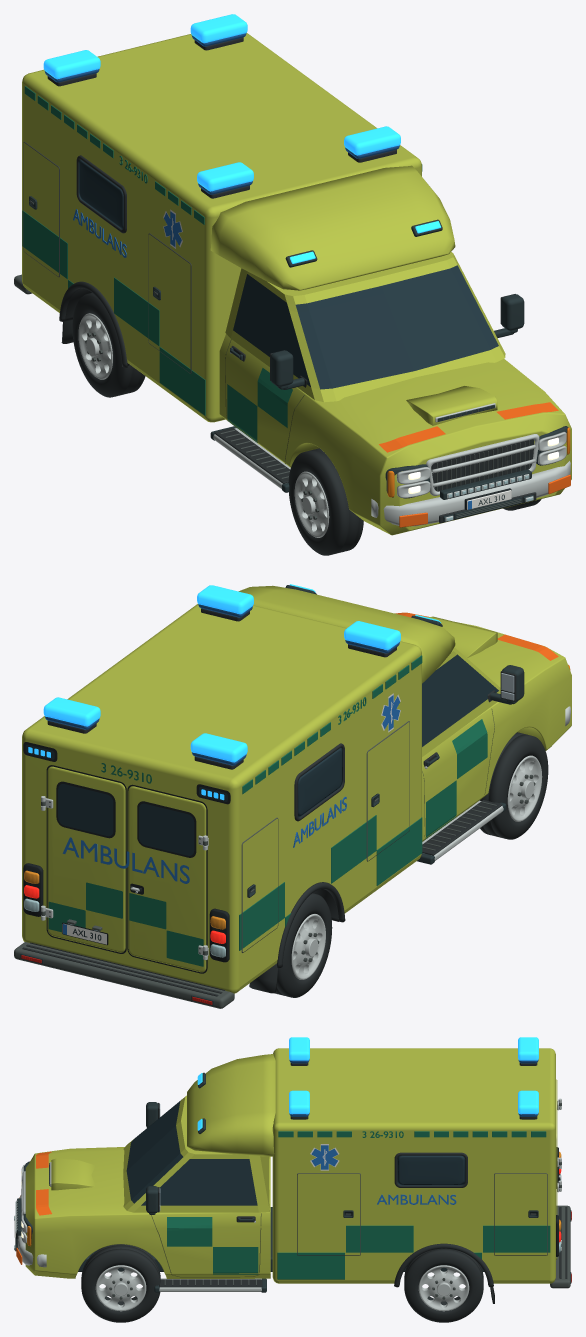
File: ambulance.glb
3 views of the same model, one above another, from view 1: azimuth 30°, elevation 25°; view 2: azimuth 150°, elevation 25°; view 3: azimuth 270°, elevation 25° (orthographic). The views are drawn at different scales.
Visible parts, largest first — view 1: Vårdmodul, Förarhytt, Huv och dörrplåt, Vårdmodulens taköverhäng, Däck, Pressad kromstötfångare, Däck.001, Motorhuvens luftintag, Kylarnätets skugga, Vårdfönstrets välvda glas, Reflexfält, Reflexfält.002 (+17 smaller); view 2: Vårdmodul, Huv och dörrplåt, Pressad dörrplåt, Pressad dörrplåt.001, Vårdmodulens taköverhäng, Förarhytt, Laststeg, Däck, Tonat bakglas.001, Tonat bakglas, Däck.001, Vårdfönstrets välvda glas (+25 smaller); view 3: Vårdmodul, Huv och dörrplåt, Förarhytt, Vårdmodulens taköverhäng, Däck.002, Däck.003, Vårdfönstrets välvda glas.001, Reflexfält.004, Reflexfält.006, Reflexfält.007, Aluminiumfälg.003, Aluminiumfälg.002 (+16 smaller).
Part boxes in pixels (left/top/right/bottom): Vårdmodul: left=22, top=33, right=421, bottom=422; Förarhytt: left=225, top=252, right=505, bottom=402; Huv och dörrplåt: left=219, top=334, right=571, bottom=535; Vårdmodulens taköverhäng: left=210, top=165, right=455, bottom=290; Däck: left=288, top=448, right=363, bottom=555; Pressad kromstötfångare: left=371, top=461, right=570, bottom=526; Däck.001: left=72, top=293, right=145, bottom=397; Motorhuvens luftintag: left=406, top=386, right=497, bottom=425; Kylarnätets skugga: left=431, top=439, right=533, bottom=491; Vårdfönstrets välvda glas: left=78, top=159, right=123, bottom=229; Reflexfält: left=159, top=347, right=205, bottom=415; Reflexfält.002: left=114, top=277, right=159, bottom=346; Vårdmodul: left=22, top=604, right=421, bottom=993; Huv och dörrplåt: left=394, top=612, right=571, bottom=841; Pressad dörrplåt: left=128, top=786, right=206, bottom=972; Pressad dörrplåt.001: left=47, top=766, right=125, bottom=952; Vårdmodulens taköverhäng: left=238, top=585, right=455, bottom=683; Förarhytt: left=422, top=647, right=500, bottom=756; Laststeg: left=14, top=942, right=234, bottom=1008; Däck: left=479, top=732, right=548, bottom=839; Tonat bakglas.001: left=58, top=784, right=113, bottom=836; Tonat bakglas: left=139, top=803, right=194, bottom=855; Däck.001: left=274, top=893, right=332, bottom=997; Vårdfönstrets välvda glas: left=298, top=747, right=342, bottom=817; Vårdmodul: left=272, top=1048, right=555, bottom=1283; Huv och dörrplåt: left=25, top=1147, right=270, bottom=1278; Förarhytt: left=123, top=1095, right=269, bottom=1212; Vårdmodulens taköverhäng: left=187, top=1054, right=275, bottom=1156; Däck.002: left=81, top=1244, right=160, bottom=1322; Däck.003: left=404, top=1248, right=483, bottom=1322; Vårdfönstrets välvda glas.001: left=397, top=1155, right=465, bottom=1185; Reflexfält.004: left=277, top=1252, right=344, bottom=1279; Reflexfält.006: left=346, top=1225, right=413, bottom=1252; Reflexfält.007: left=483, top=1225, right=550, bottom=1252; Aluminiumfälg.003: left=418, top=1265, right=469, bottom=1311; Aluminiumfälg.002: left=95, top=1265, right=146, bottom=1311.
Size of the model in its own units: 2.53 by 2.8 by 6.6.
